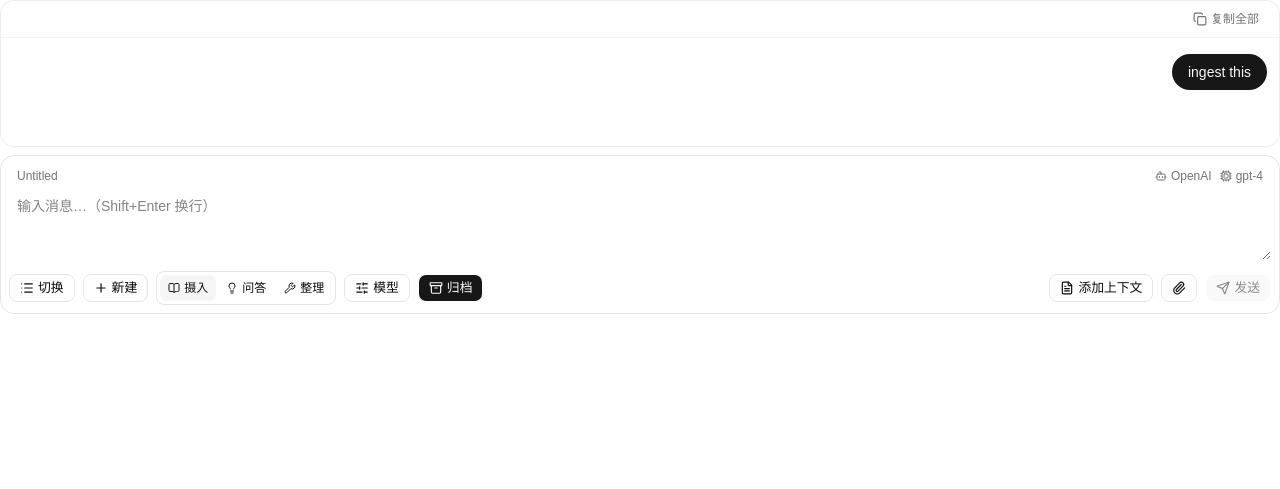
Scenario: IngestChat › hides deep organize checkbox in non-organize modes
Expected: the text "ingest this" is shown, top-left (1188, 62), bottom-right (1251, 82)
Click the button "归档" at (451, 288), box top-left (418, 274), bottom-right (483, 302)
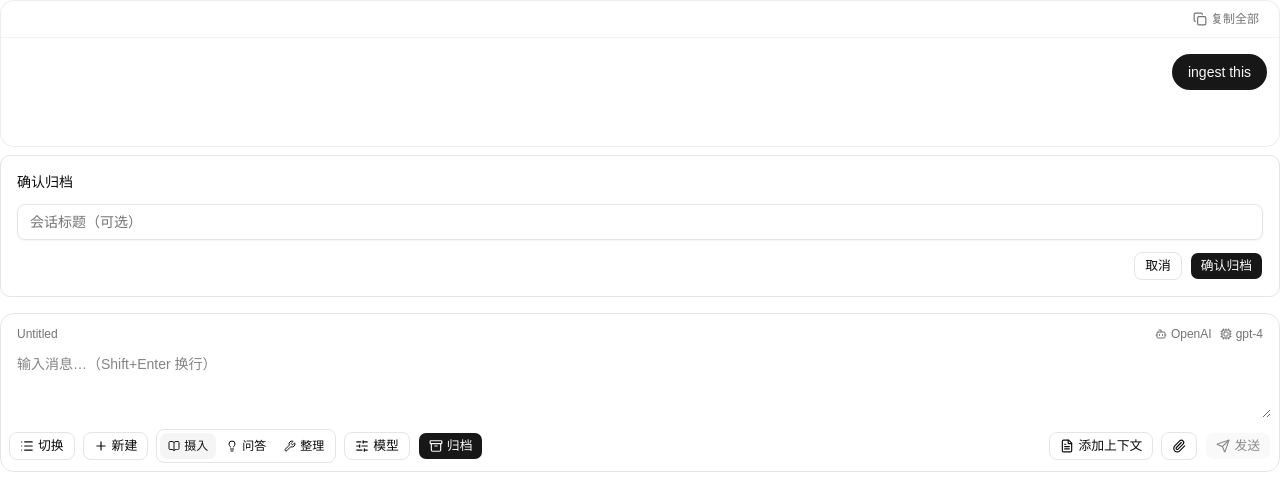
Expected: the button "确认归档" is shown, top-left (1190, 252), bottom-right (1263, 280)
